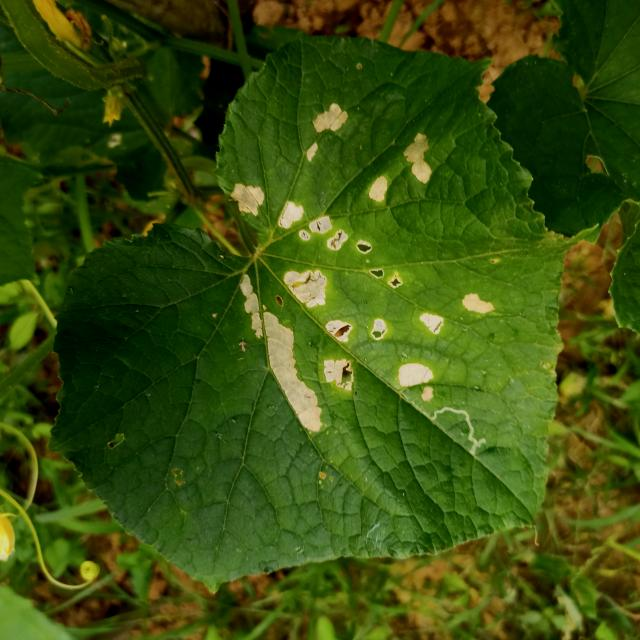disease_cucumber: (229, 180, 495, 432), (368, 133, 431, 204), (303, 105, 347, 161)
